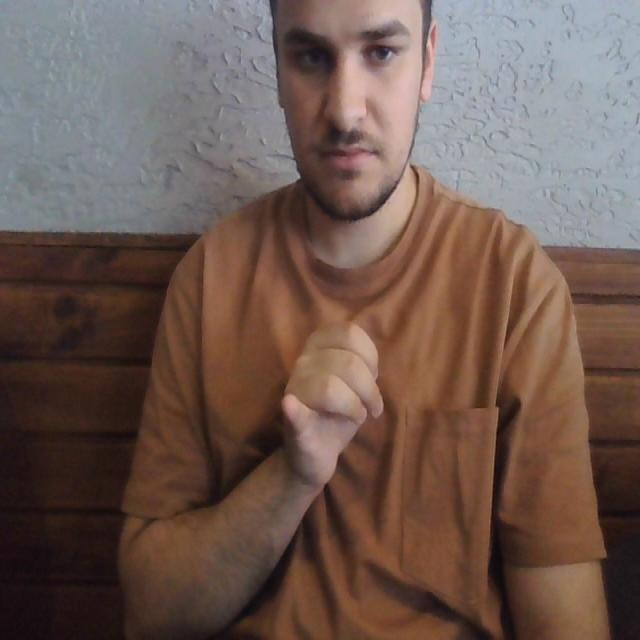kotu: (280, 315, 384, 473)
